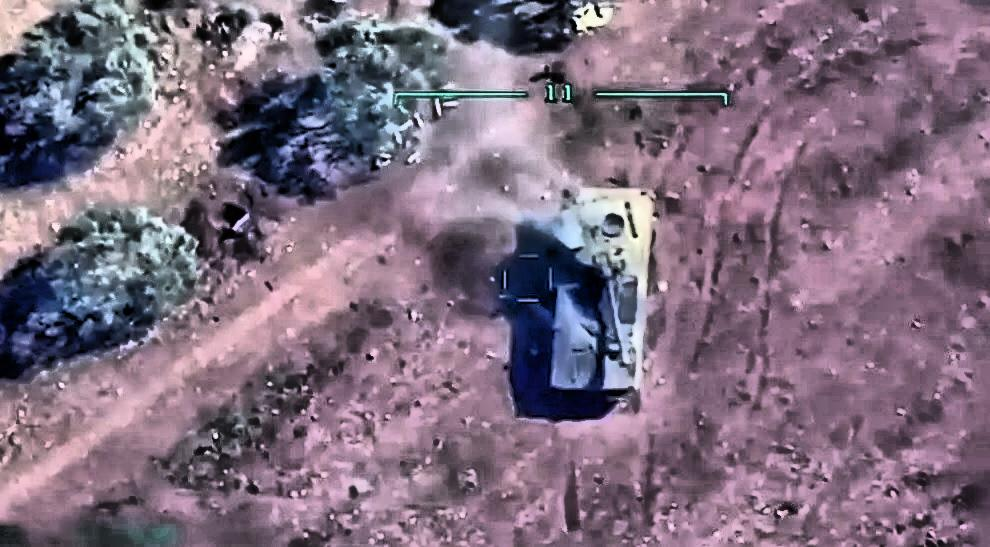military-vehicle: (546, 186, 651, 389)
